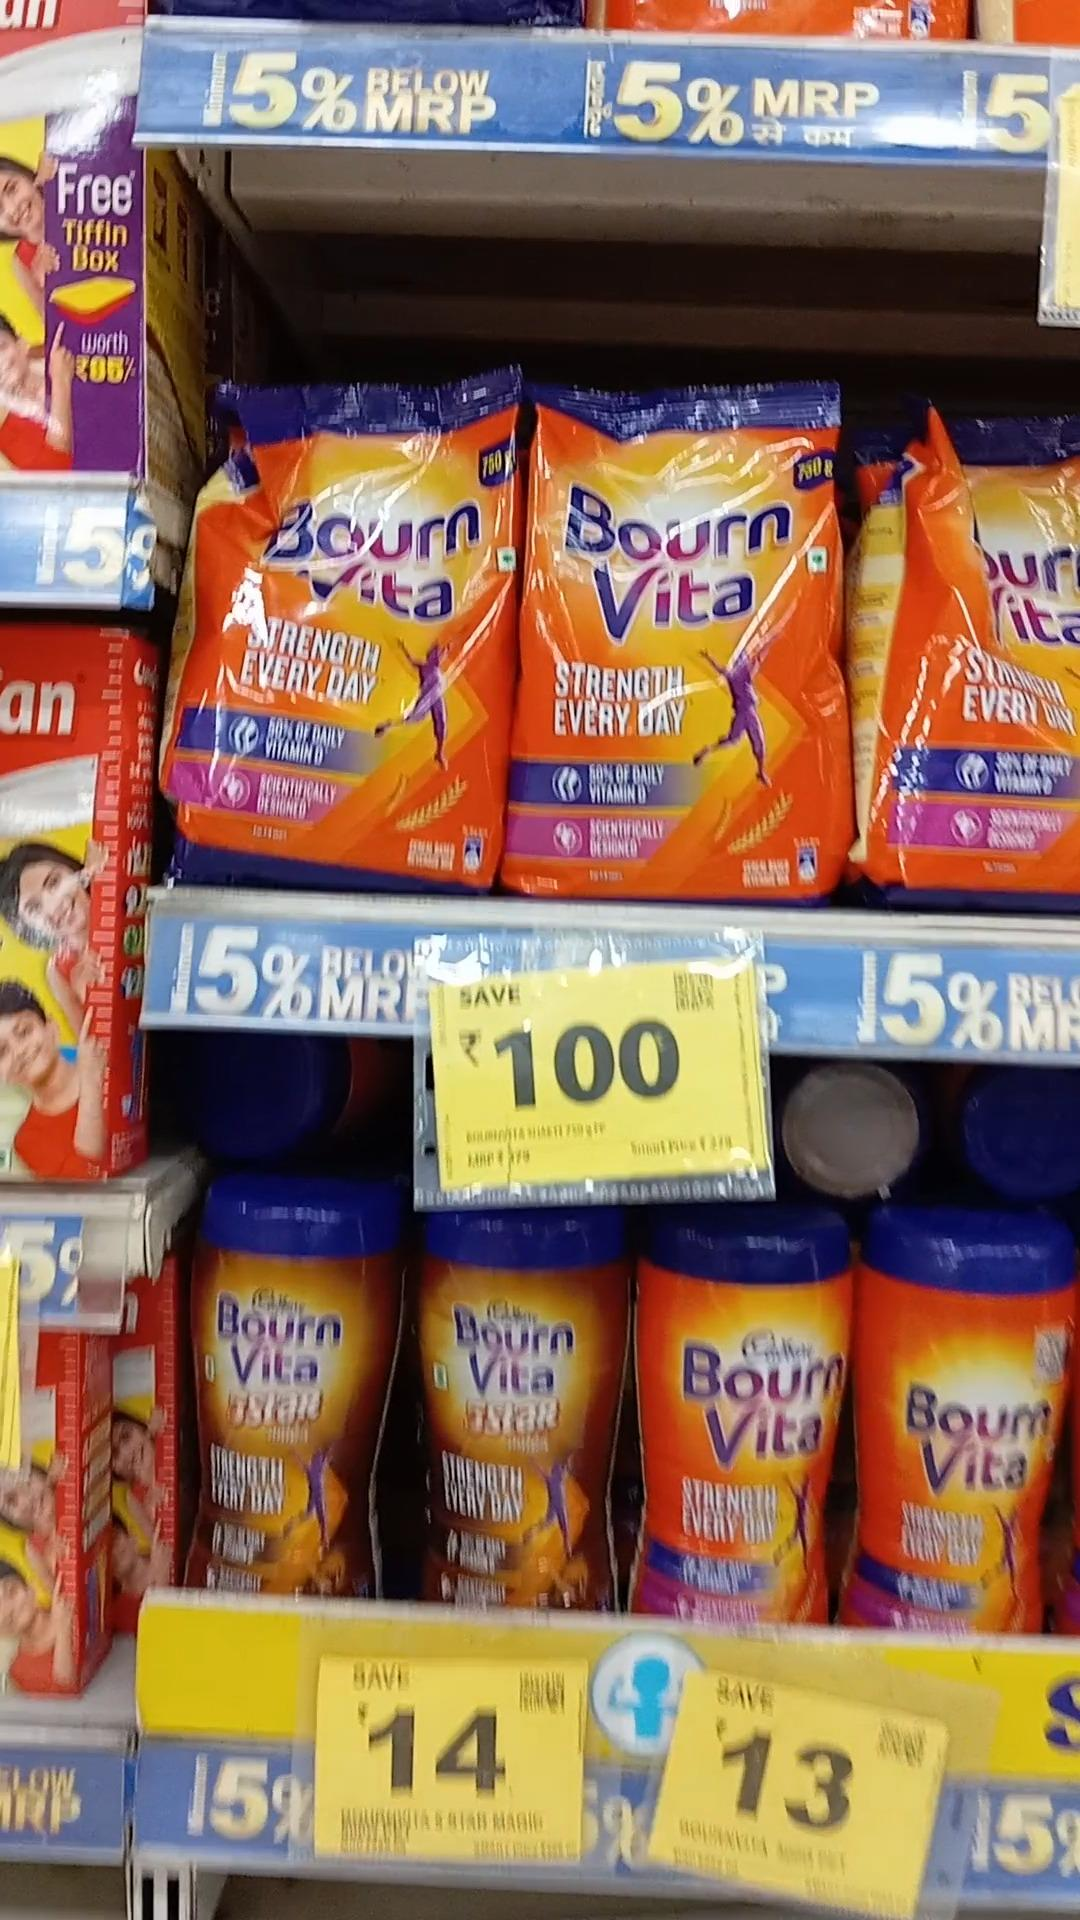BOURN_VITA_500_G_JAR: (625, 1208, 837, 1617), (861, 1199, 1048, 1630)
BOURN_VITA_750_G_POUCH: (509, 392, 851, 901), (189, 372, 492, 884), (860, 402, 1080, 907)
BOURN_VITA_FIVE_STAR_MAGIC_500_G_JAR: (186, 1180, 402, 1594), (422, 1207, 620, 1609)
